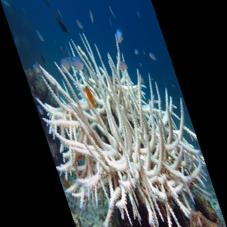bleached_corals: (20, 10, 222, 227)
